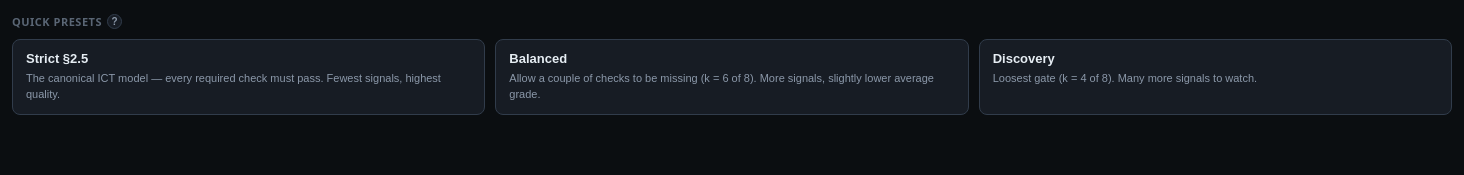
Test: PresetPicker › applies the Balanced preset (k=6 of 8) and shows the diff
This screenshot has width=1464, height=175.
Click the button "Balanced" at (732, 77), box [495,39,969,115]
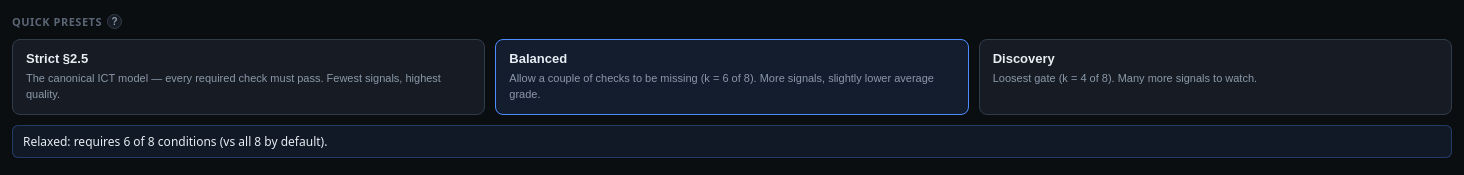
Result: the message shows "requires 6 of 8 conditions" at [23,133,327,150]
